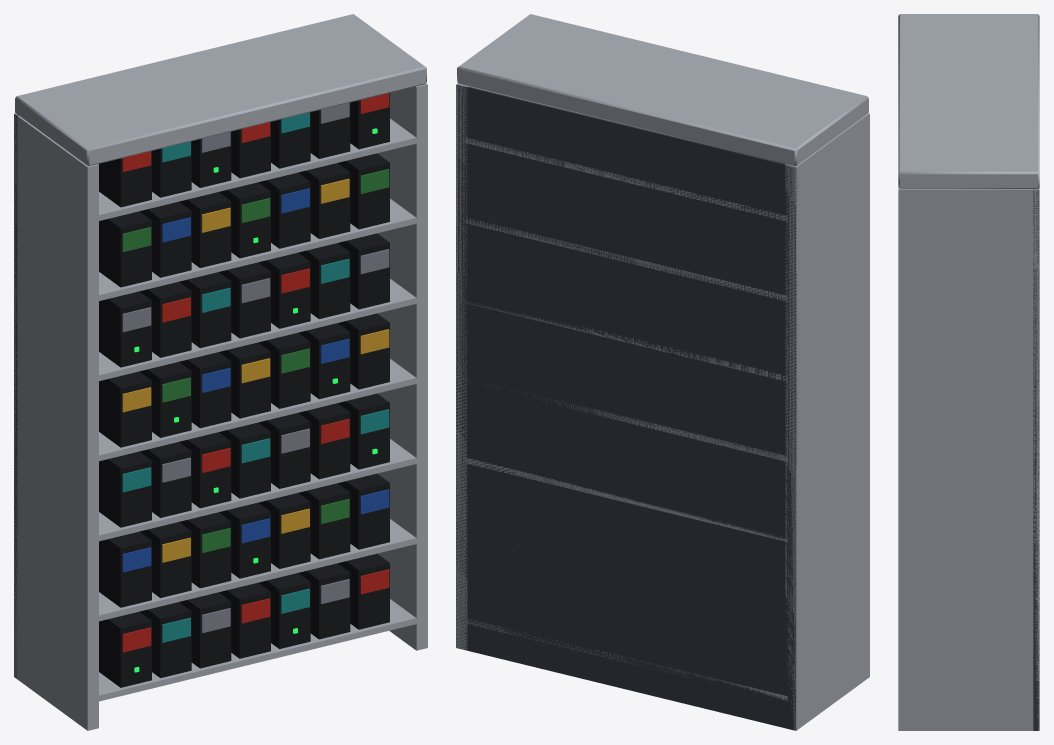
File: storage_cartridge_library_shelves.glb
The picture shows the model from 3 angles, left to right: view 1: azimuth 30°, elevation 25°; view 2: azimuth 150°, elevation 25°; view 3: azimuth 270°, elevation 25°; orthographic projection. The views are drawn at different scales.
Parts seen in each view (by area): view 1: storage_cartridge_library_shelves; view 2: storage_cartridge_library_shelves; view 3: storage_cartridge_library_shelves.
Boxes of the visible parts, x1,y1,x2,y2 form: storage_cartridge_library_shelves: [14, 14, 427, 730]; storage_cartridge_library_shelves: [456, 14, 869, 730]; storage_cartridge_library_shelves: [898, 14, 1039, 730].
Bounding box in the file's own units: 1.2 × 1.96 × 0.45.
